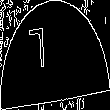L_S: (45, 28, 65, 82)
